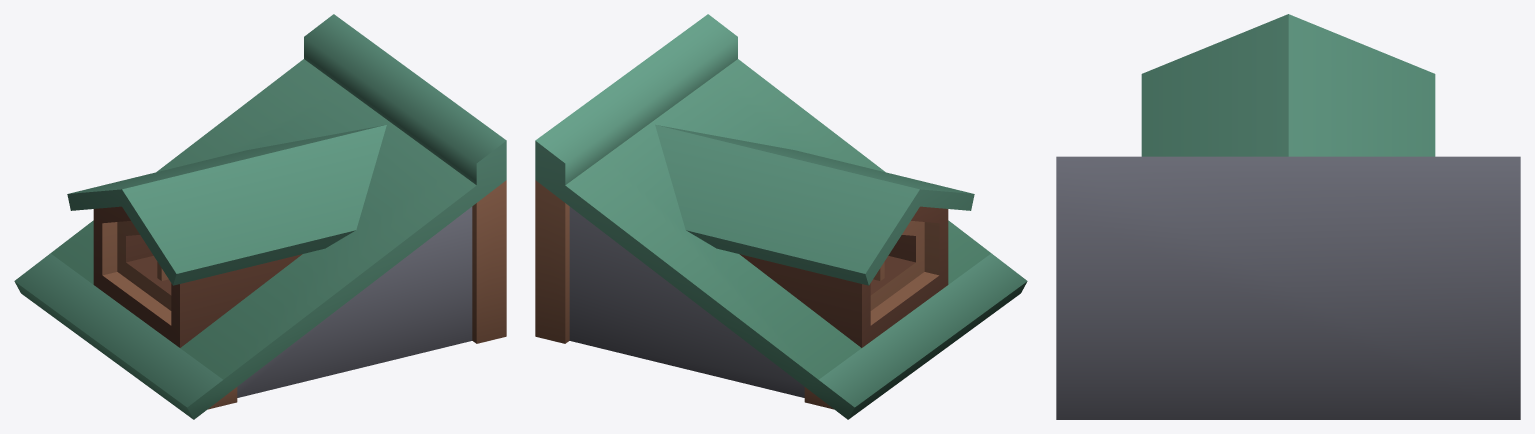
The model's file is roof-window.glb.
The picture shows the model from 3 angles, left to right: view 1: azimuth 30°, elevation 25°; view 2: azimuth 150°, elevation 25°; view 3: azimuth 270°, elevation 25°; orthographic projection. The views are drawn at different scales.
Visible parts, largest first — view 1: roof-window; view 2: roof-window; view 3: roof-window.
Part boxes in pixels (bbox=[...]): roof-window: bbox=[14, 14, 506, 419]; roof-window: bbox=[535, 14, 1027, 419]; roof-window: bbox=[1056, 14, 1520, 419].
Size of the model in its own units: 3.2 by 1.94 by 3.
